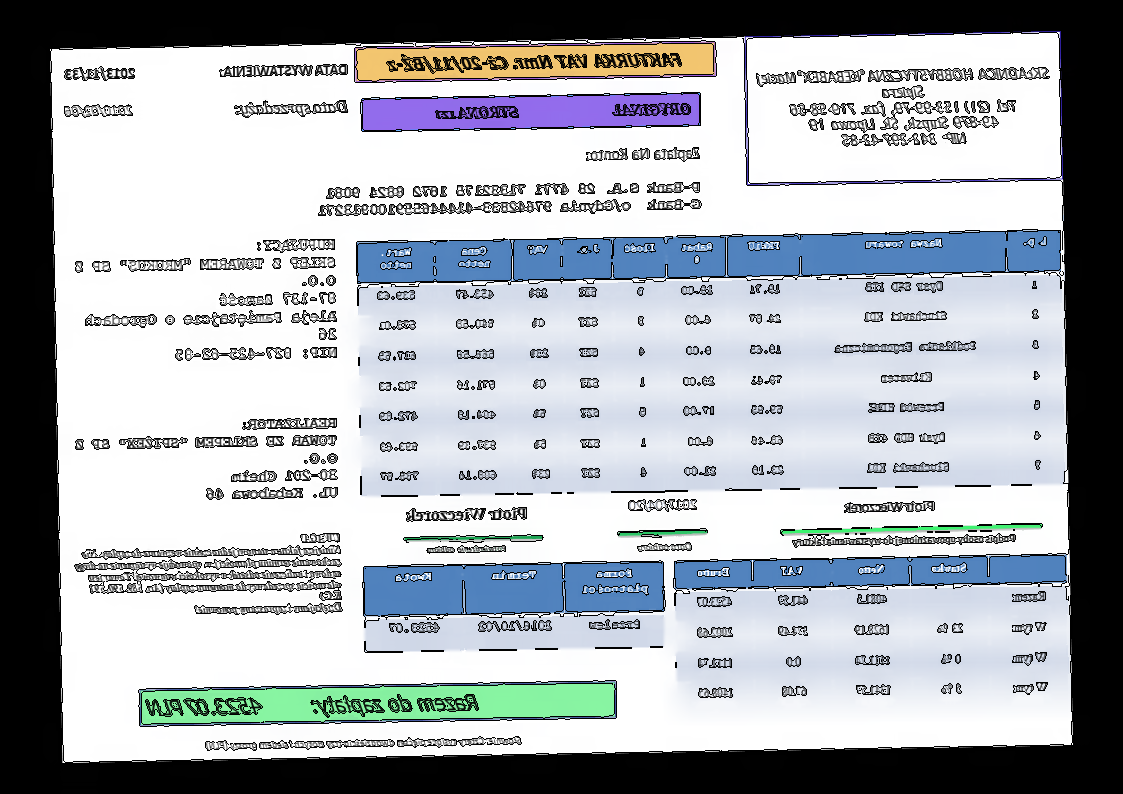Table: (355, 227, 1068, 499), (673, 552, 1071, 714), (361, 558, 667, 653)
TextBox: (70, 234, 341, 368), (752, 63, 1054, 152), (69, 529, 346, 622), (71, 414, 341, 506), (313, 178, 704, 221), (143, 689, 483, 719), (381, 46, 685, 77), (203, 732, 526, 753), (433, 98, 694, 122), (791, 530, 1018, 551), (230, 95, 351, 120), (218, 60, 349, 80), (582, 143, 703, 164), (405, 505, 530, 523), (839, 498, 939, 515), (628, 495, 700, 516), (60, 65, 139, 83), (61, 102, 138, 119), (426, 542, 509, 556), (636, 539, 695, 554)
